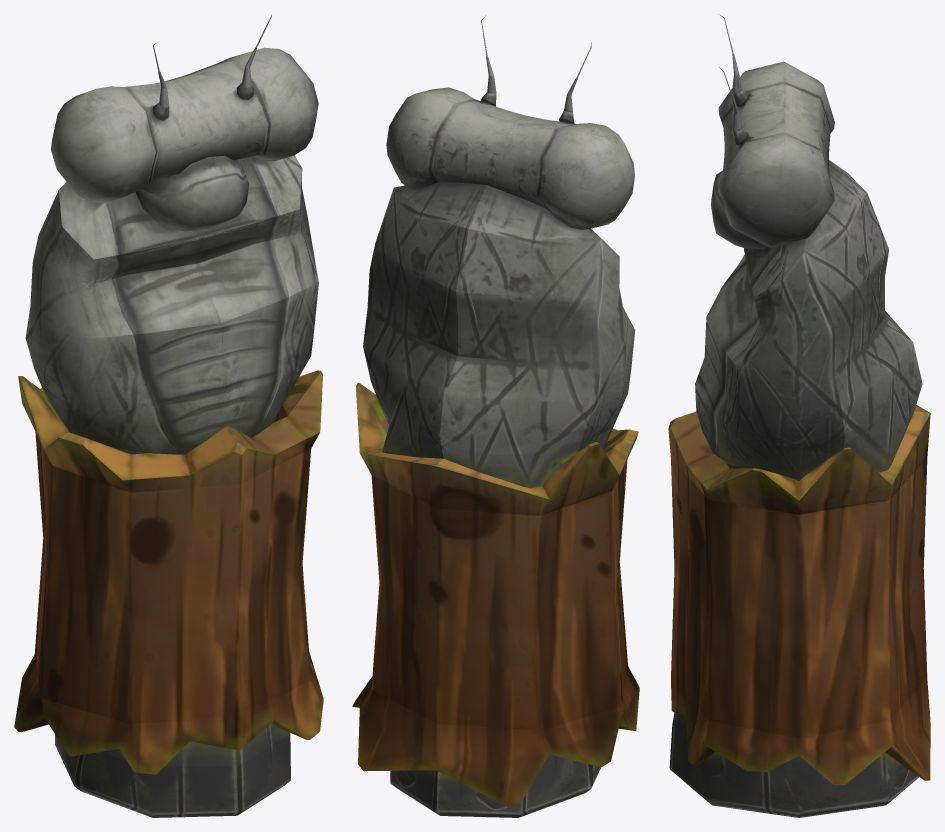
Rendered from 2_Estatua.fbx.
The picture shows the model from 3 angles, left to right: view 1: azimuth 30°, elevation 25°; view 2: azimuth 150°, elevation 25°; view 3: azimuth 270°, elevation 25°; orthographic projection. The views are drawn at different scales.
Visible parts, largest first — view 1: 2_Madera_low; view 2: 2_Madera_low; view 3: 2_Madera_low.
Part boxes in pixels (left/top/right/bottom): 2_Madera_low: left=14, top=14, right=323, bottom=817; 2_Madera_low: left=352, top=15, right=639, bottom=817; 2_Madera_low: left=668, top=15, right=930, bottom=817.
Bounding box in the file's own units: 69.7 × 187 × 60.54.
